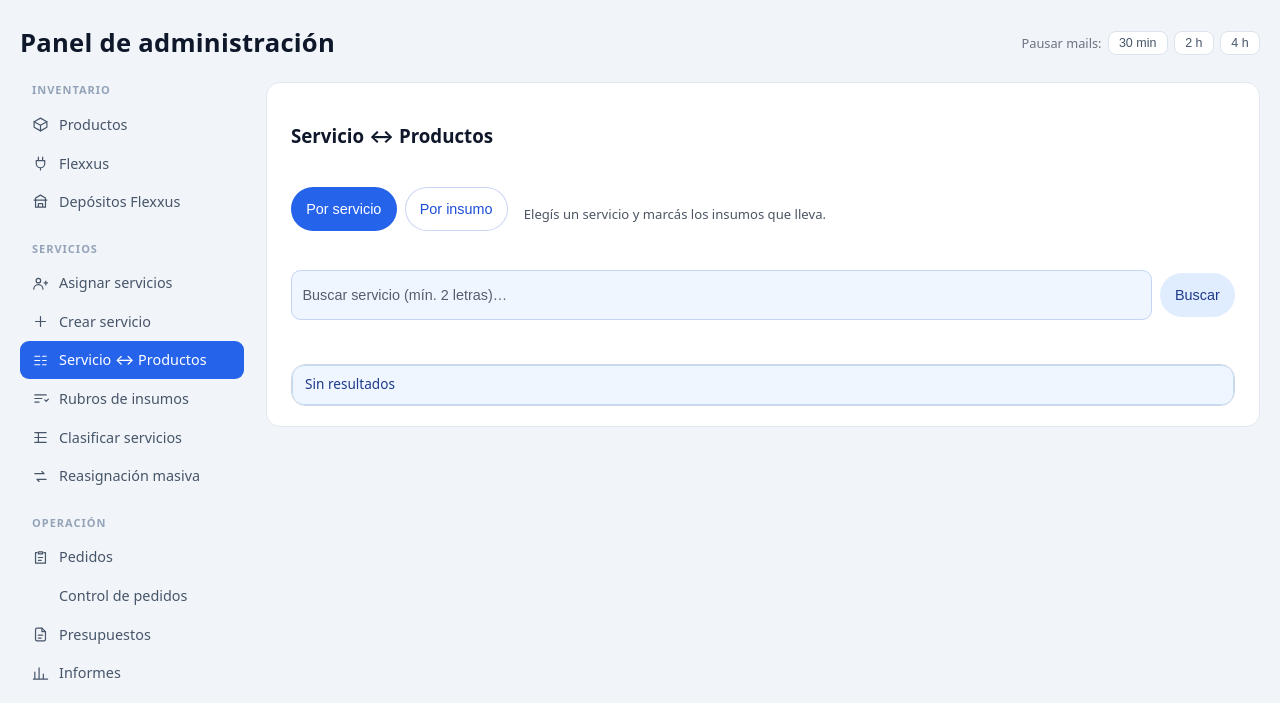
Servicio ↔ Productos — por insumo › elegido el insumo, muestra los servicios y cuáles lo llevan
Click the tab "Por insumo".
click(456, 208)  # box 404,186 -> 508,230
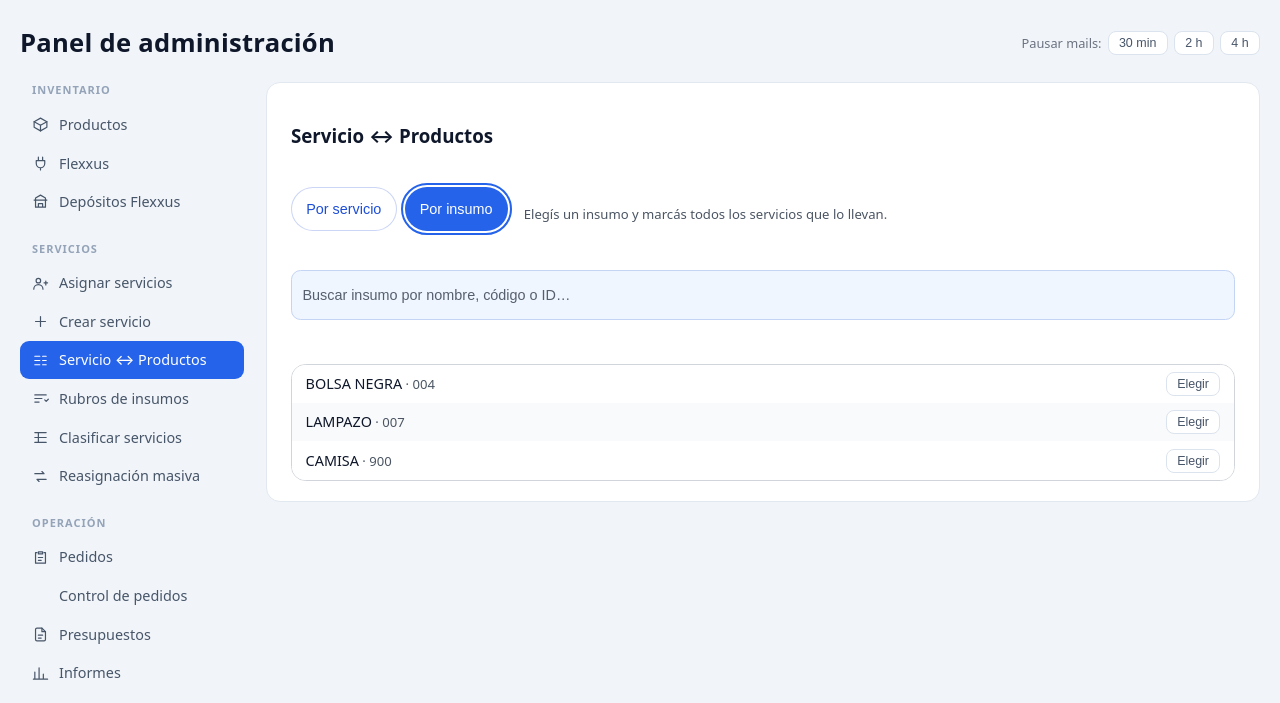
Click the button "Elegir" in the row of "004".
click(1193, 384)  # box 1166,372 -> 1220,396
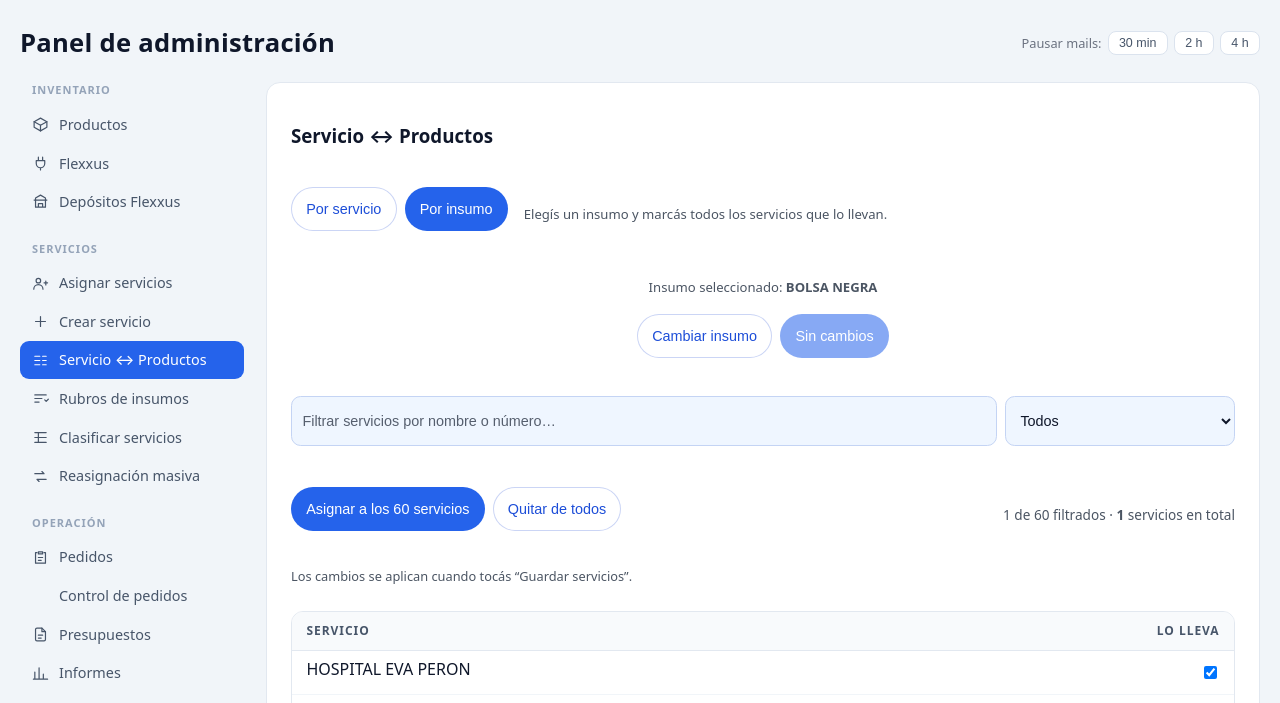
Check: the text "Insumo seleccionado: BOLSA NEGRA" is shown, box 649,278 -> 877,298
Check: the checkbox named "Asignar a HOSPITAL EVA PERON" is checked, box 1204,666 -> 1217,679
Check: the text "1 de 60 filtrados · 1 servicios en total" is shown, box 1003,505 -> 1235,526
